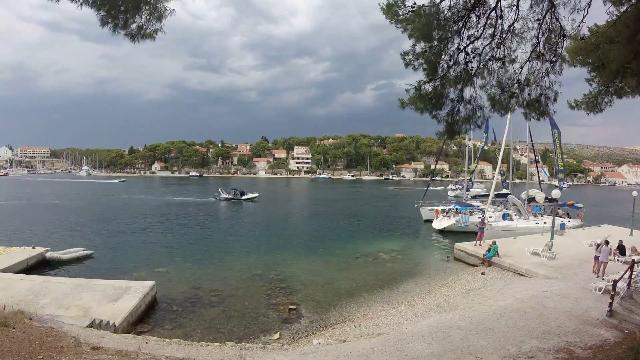speedboat: (212, 183, 264, 203), (427, 180, 448, 194), (186, 167, 204, 181), (113, 174, 131, 184)
